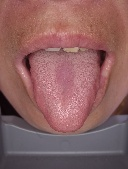tongue: (27, 55, 100, 134)
